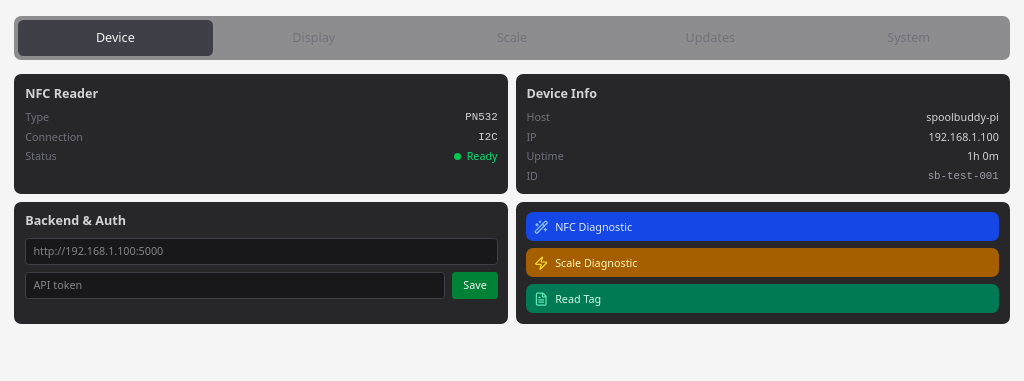
Test: SpoolBuddySettingsPage › saving the backend config › is not offered on the device state from before the save
In the field with placeholder "http://192.168.1.100:5000": (261, 251) [25,238,498,265], type "http://10.0.0.5:8000"
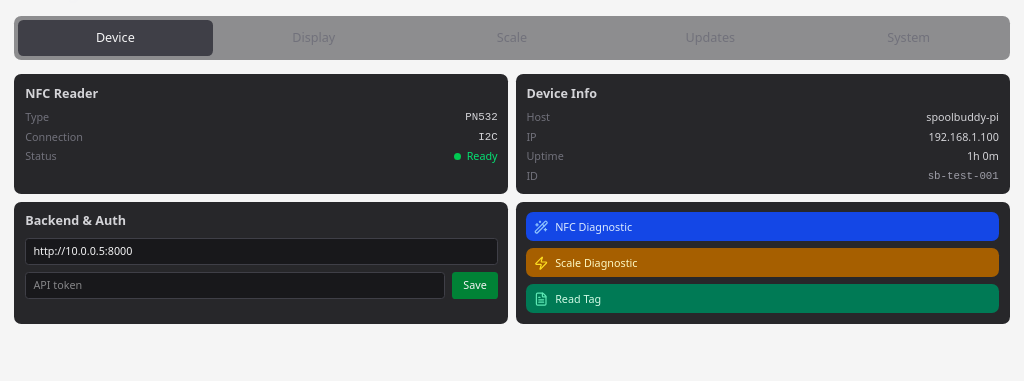
Click the button "Save": (475, 286) [452,272,498,299]
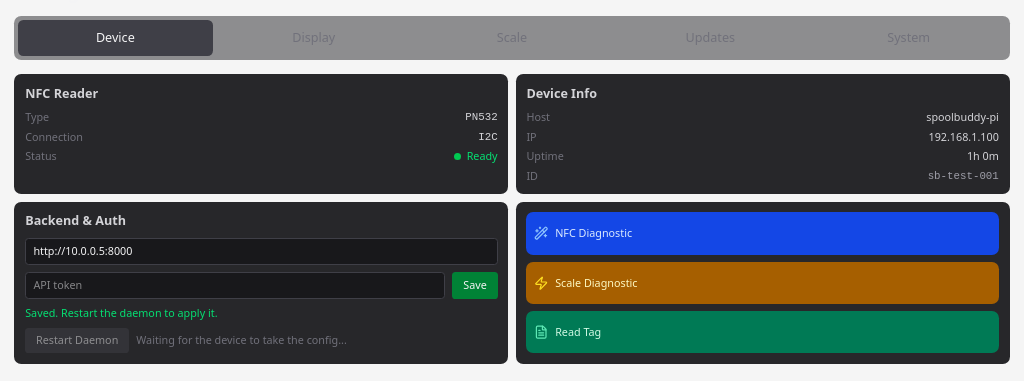
Result: the button "Restart Daemon" is disabled at [25,328,129,353]
